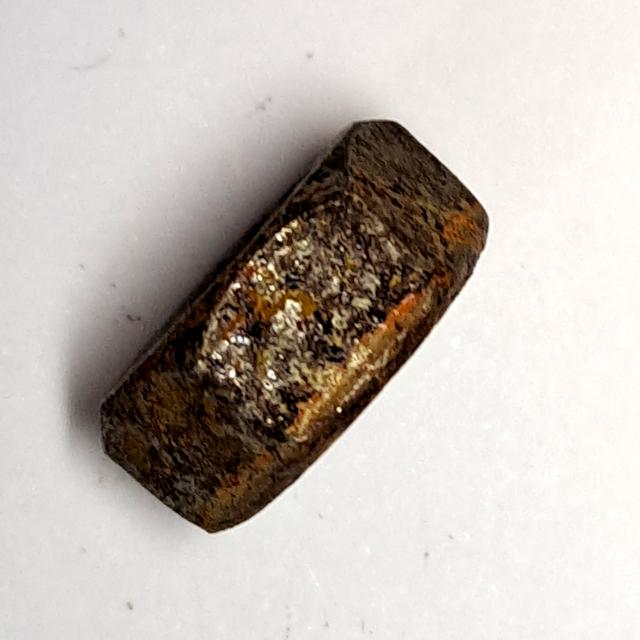Side_Rust: (83, 104, 502, 542)
